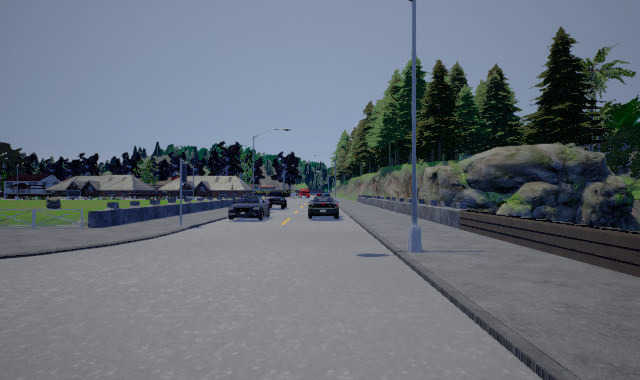vehicle: (227, 190, 269, 221), (308, 193, 339, 219), (266, 190, 288, 210)
